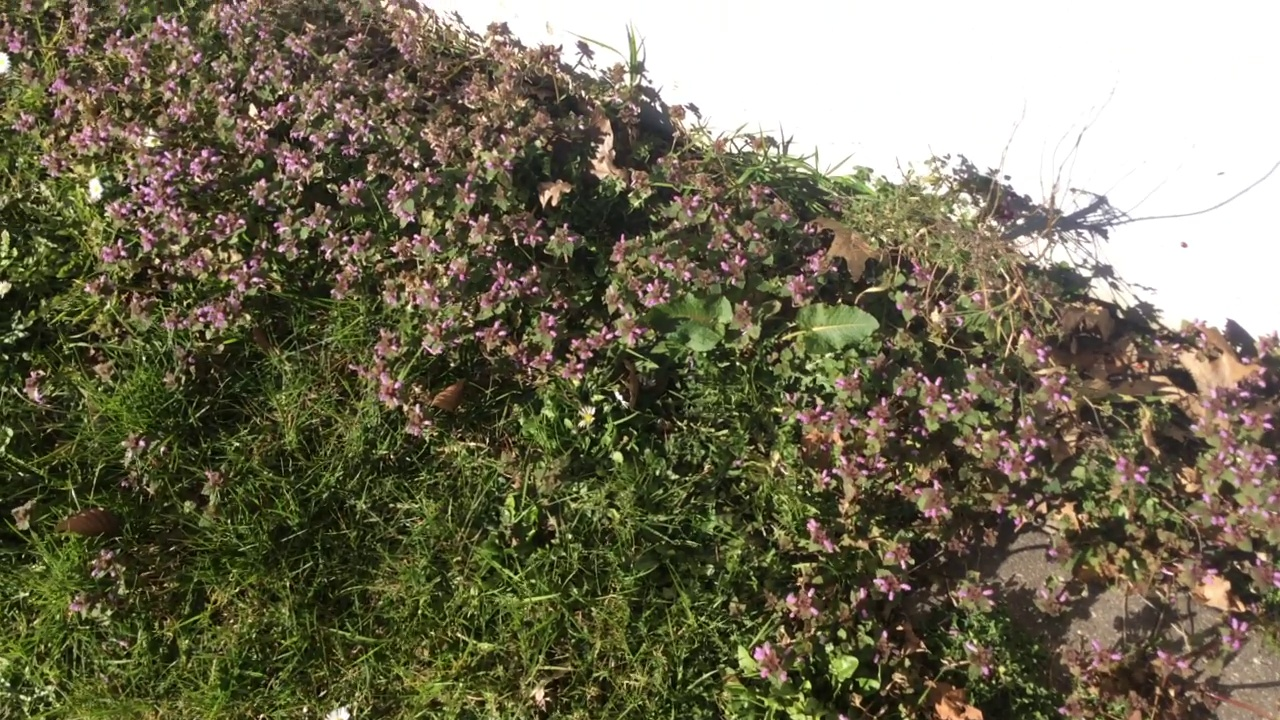rumex: (634, 292, 882, 356)
